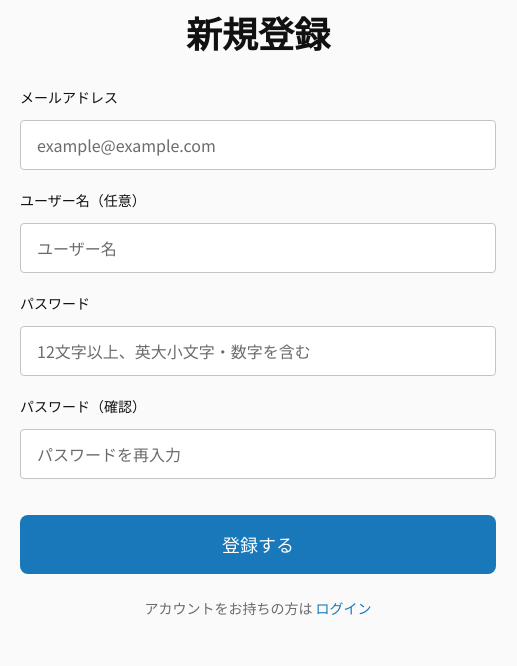
it: RegisterForm › メールアドレス未入力でバリデーションエラーが表示される
Type "Password1234" into the password field labelled "パスワード" at (258, 351), box [20,326,496,376]
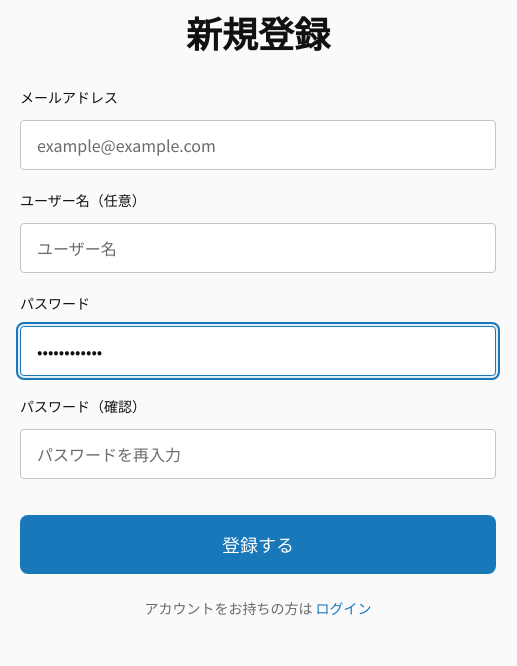
Type "Password1234" into the password field labelled "パスワード（確認）" at (258, 454), box [20,429,496,479]
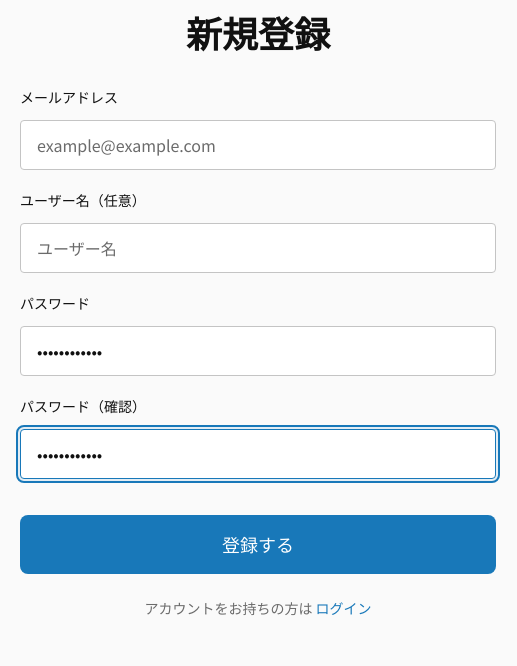
Click the button "登録する" at (258, 544), box [20,515,496,574]
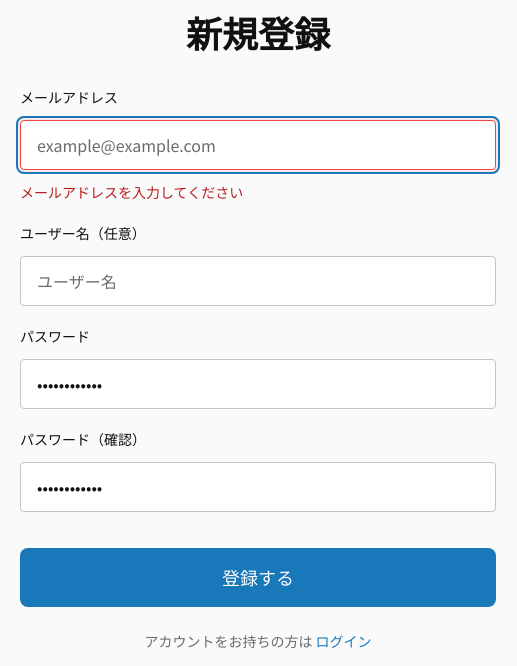
Expected: the text "メールアドレスを入力してください" is shown, [20,182,243,202]
